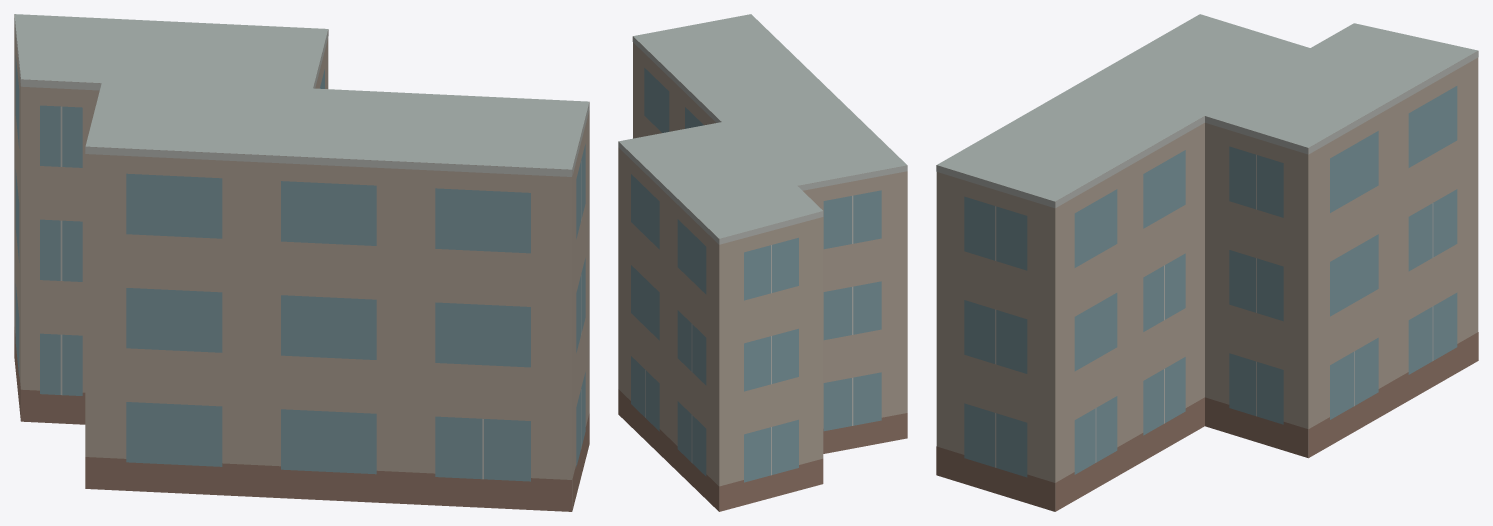
File: survey-upis-32470343.glb
3 views of the same model, side by side, from view 1: azimuth 30°, elevation 25°; view 2: azimuth 150°, elevation 25°; view 3: azimuth 270°, elevation 25° (orthographic). The views are drawn at different scales.
Parts seen in each view (by area): view 1: survey-upis-32470343.tmp; view 2: survey-upis-32470343.tmp; view 3: survey-upis-32470343.tmp.
Boxes of the visible parts, <box> form: survey-upis-32470343.tmp: <box>14,14,589,511</box>; survey-upis-32470343.tmp: <box>618,14,907,511</box>; survey-upis-32470343.tmp: <box>936,14,1478,511</box>.
Size of the model in its own units: 14.6 by 11.25 by 17.82.
